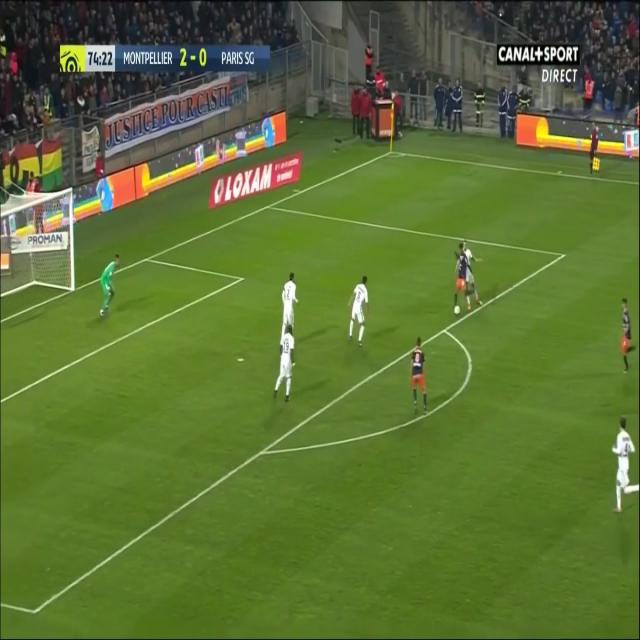Ball: (453, 302, 461, 318)
Goalkeeper: (98, 255, 122, 325)
Player: (610, 415, 638, 516), (270, 322, 298, 402), (408, 332, 431, 416), (278, 270, 300, 356), (346, 274, 372, 346), (463, 239, 485, 319), (619, 296, 637, 376), (451, 242, 468, 310)
Referee: (586, 116, 602, 178)
